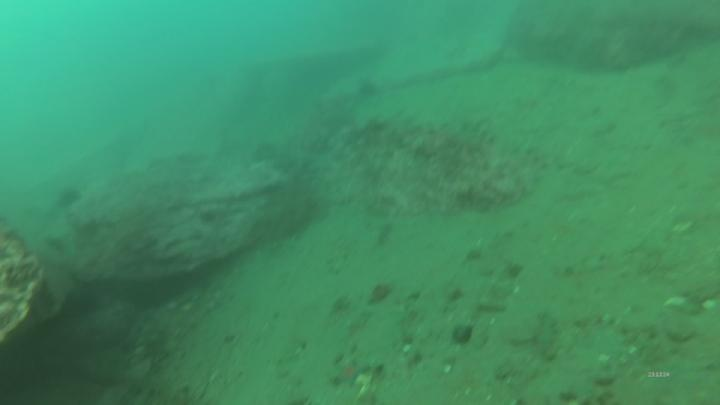starfish: (334, 358, 370, 391)
